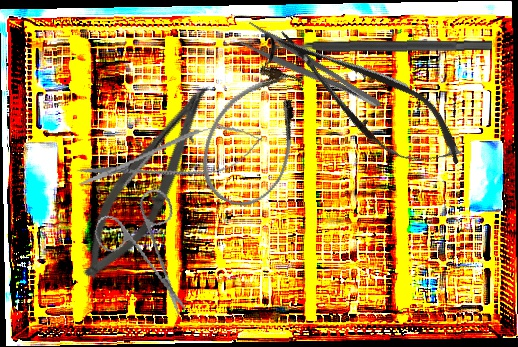Cannula: (185, 53, 323, 219)
Dressing Forceps: (236, 19, 385, 123)
Fixation Ring: (264, 27, 493, 68)
Iris Scissors: (78, 175, 217, 317)
Micro Scissor: (259, 8, 478, 190), (68, 67, 224, 294), (71, 114, 269, 203)
